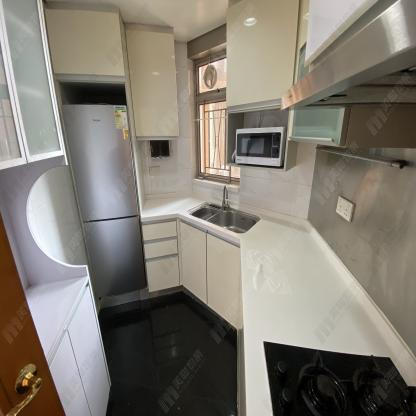Cupboard: (141, 211, 240, 329), (229, 0, 298, 110), (129, 28, 178, 140)
Exhaust Hood: (280, 1, 416, 110)
Faucet: (219, 180, 230, 212)
Fridge: (64, 102, 146, 298)
Microwave: (233, 128, 283, 167)
Sink: (186, 201, 264, 236)
Stove: (266, 340, 415, 416)
